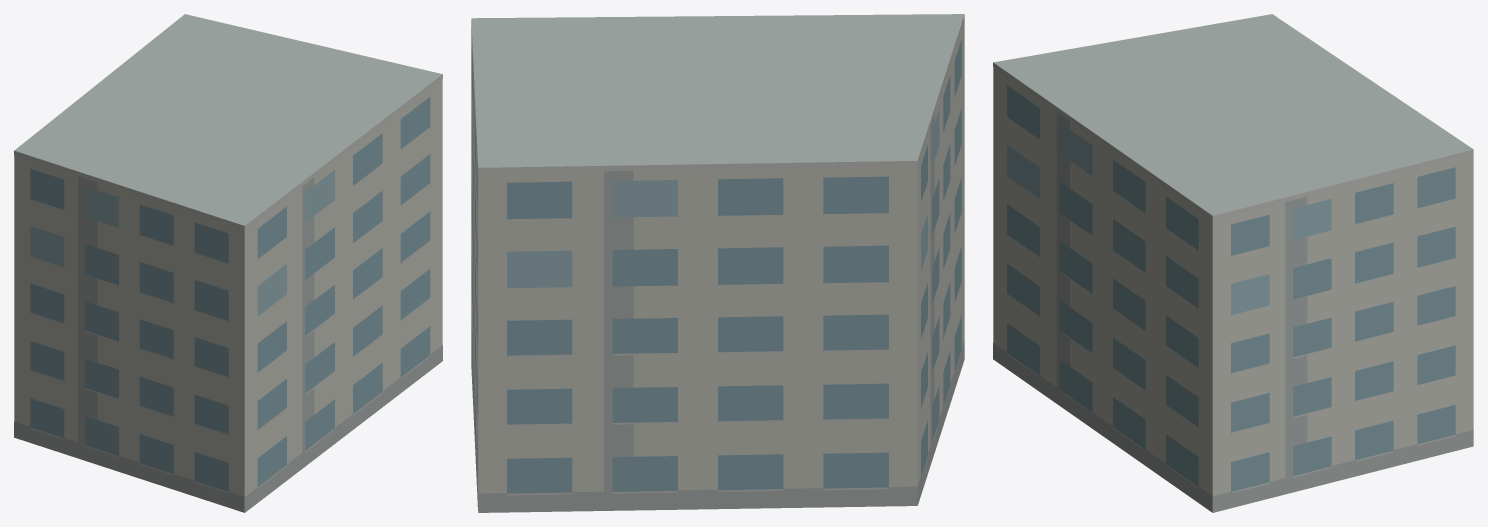
File: residential-dba426e1-6bcf-408d-b0df-d37dafffa523.glb
The picture shows the model from 3 angles, left to right: view 1: azimuth 30°, elevation 25°; view 2: azimuth 150°, elevation 25°; view 3: azimuth 270°, elevation 25°; orthographic projection. The views are drawn at different scales.
Visible parts, largest first — view 1: residential-dba426e1-6bcf-408d-b0df-d37dafffa523.tmp; view 2: residential-dba426e1-6bcf-408d-b0df-d37dafffa523.tmp; view 3: residential-dba426e1-6bcf-408d-b0df-d37dafffa523.tmp.
Part boxes in pixels (left/top/right/bottom): residential-dba426e1-6bcf-408d-b0df-d37dafffa523.tmp: left=14, top=14, right=442, bottom=512; residential-dba426e1-6bcf-408d-b0df-d37dafffa523.tmp: left=471, top=14, right=964, bottom=512; residential-dba426e1-6bcf-408d-b0df-d37dafffa523.tmp: left=993, top=14, right=1473, bottom=512.
Bounding box in the file's own units: 22.25 × 15.25 × 22.37.
